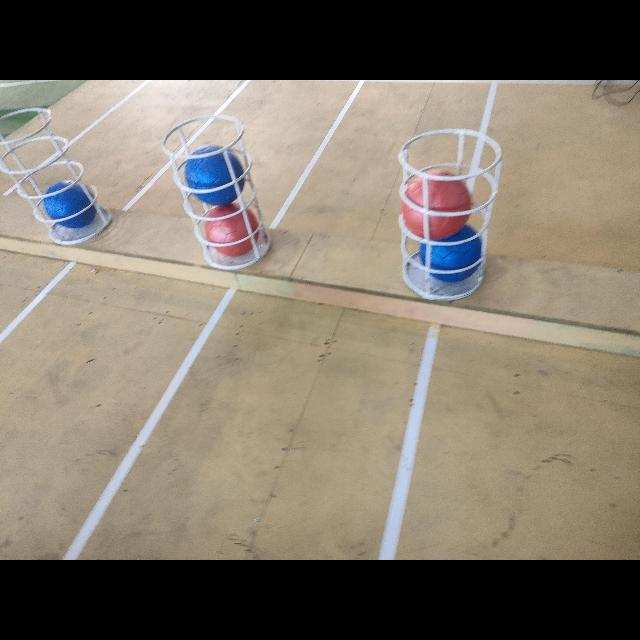B: (182, 143, 246, 205), (418, 235, 484, 283), (44, 181, 98, 229)
R: (397, 170, 471, 234), (201, 208, 259, 256)
